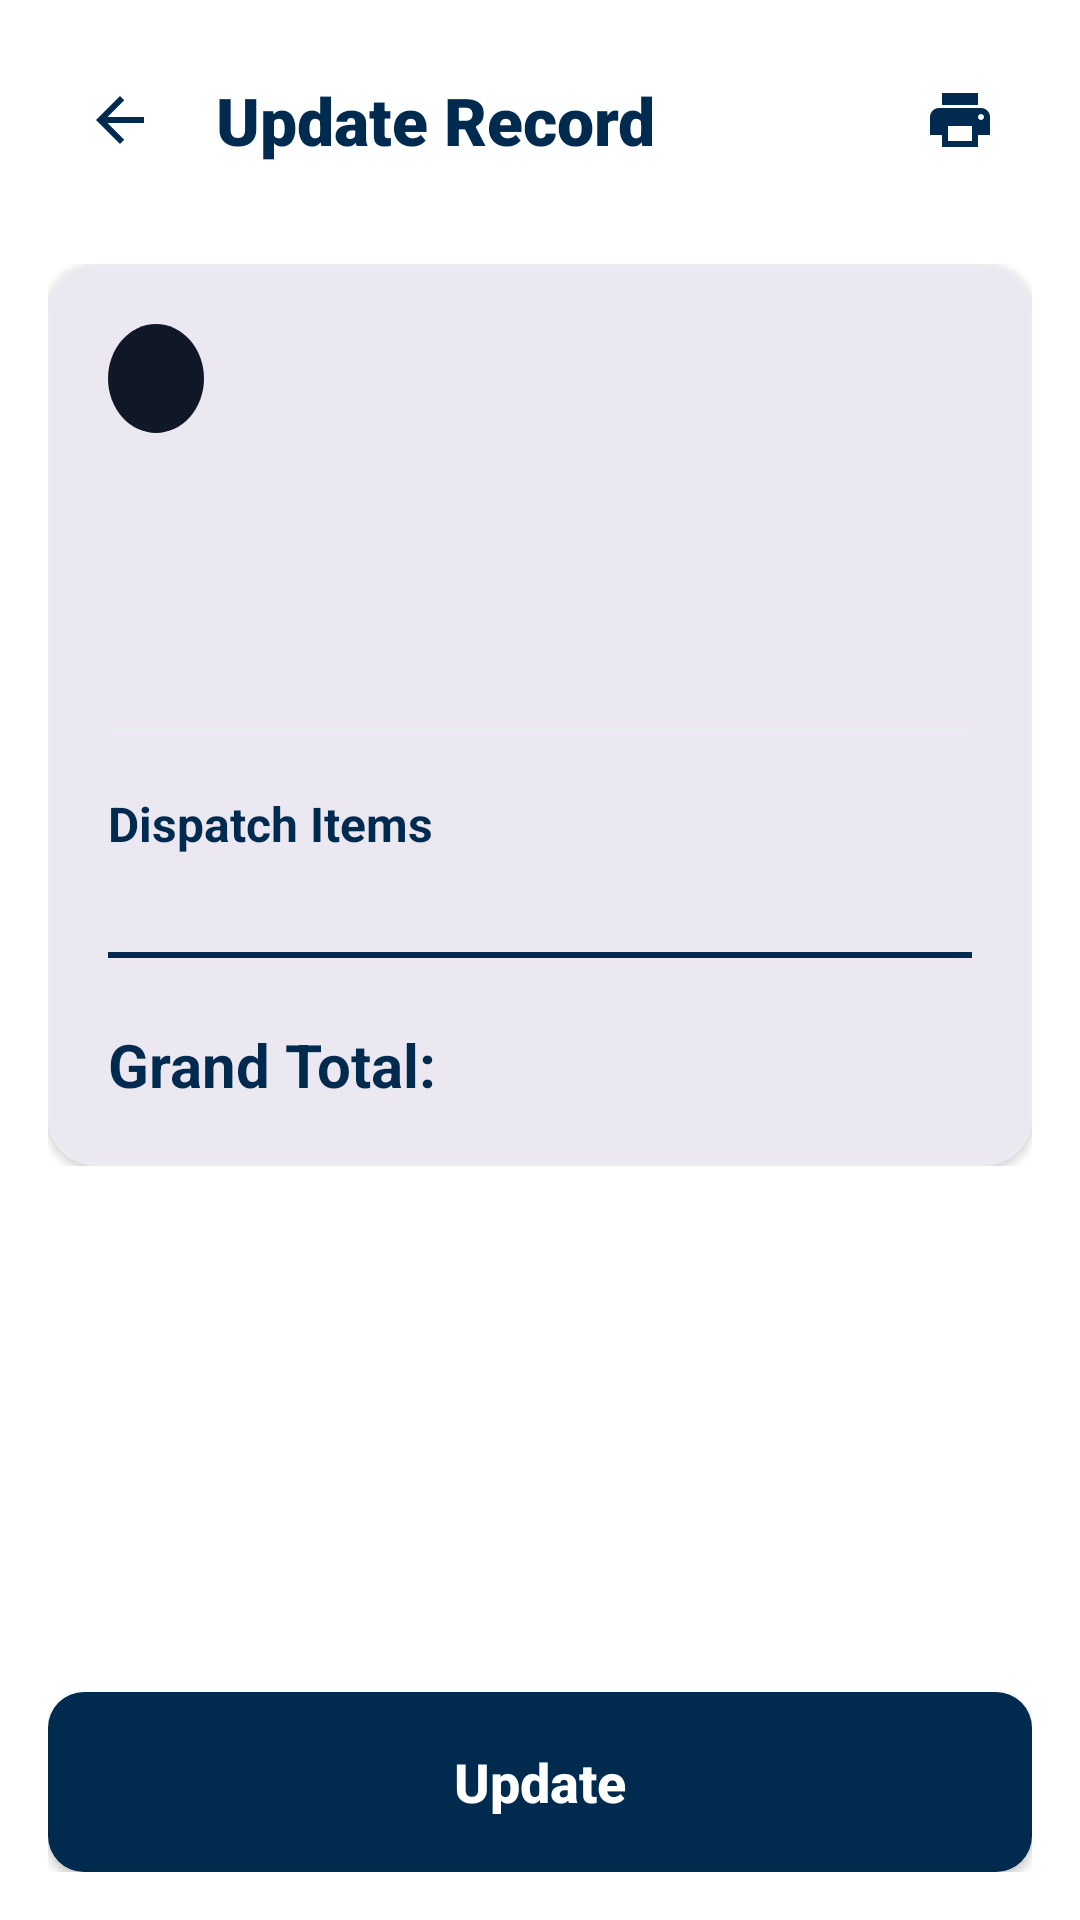

Icons on this 1080w x 1920h Android screen, each with the point to tap as [x,y]:
Back: [120,120]
Print: [960,120]
